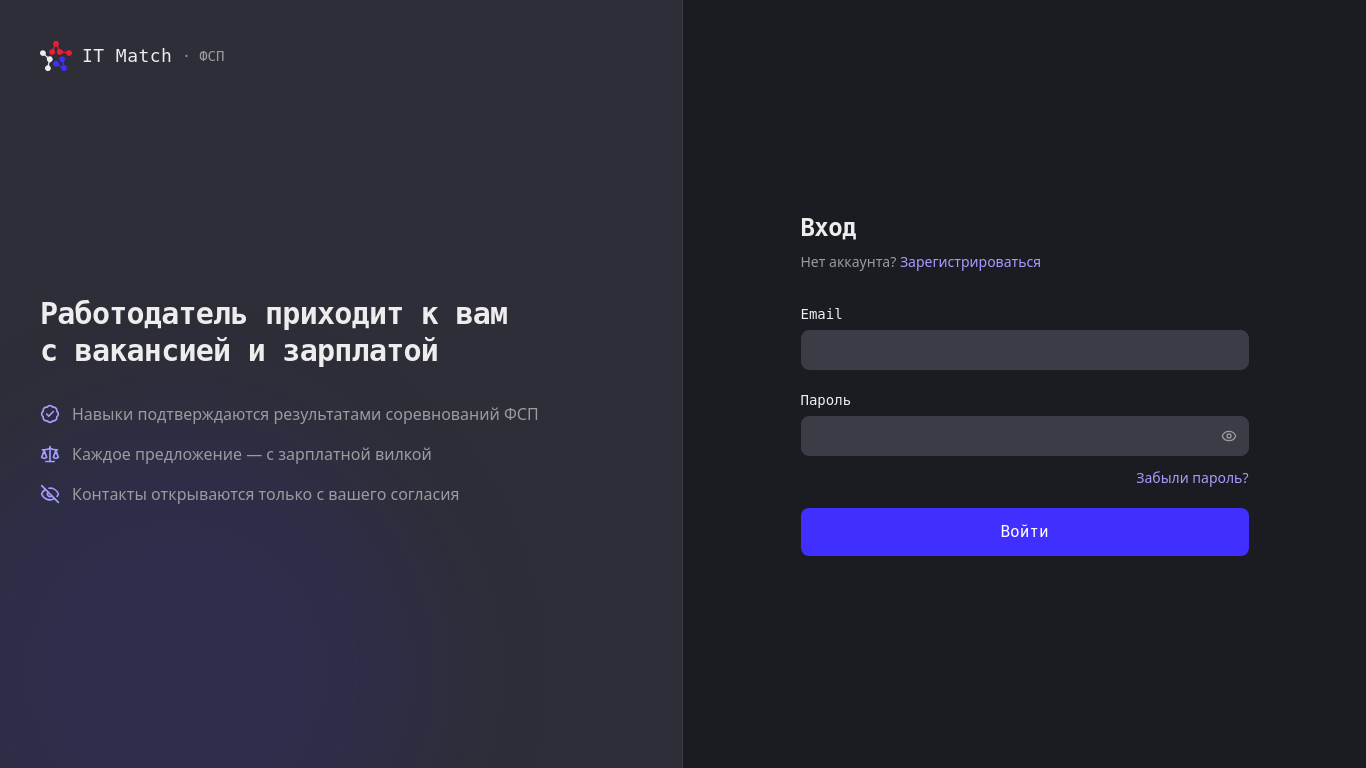
admin two-factor login › explains a wrong enrollment code and stays on the step
This screenshot has width=1366, height=768.
In the field labelled "Email": (1024, 350) 800,330 -> 1248,370, type "admin@example.org"
In the password field labelled "Пароль": (1024, 436) 800,416 -> 1248,456, type "Str0ng-pass-42"
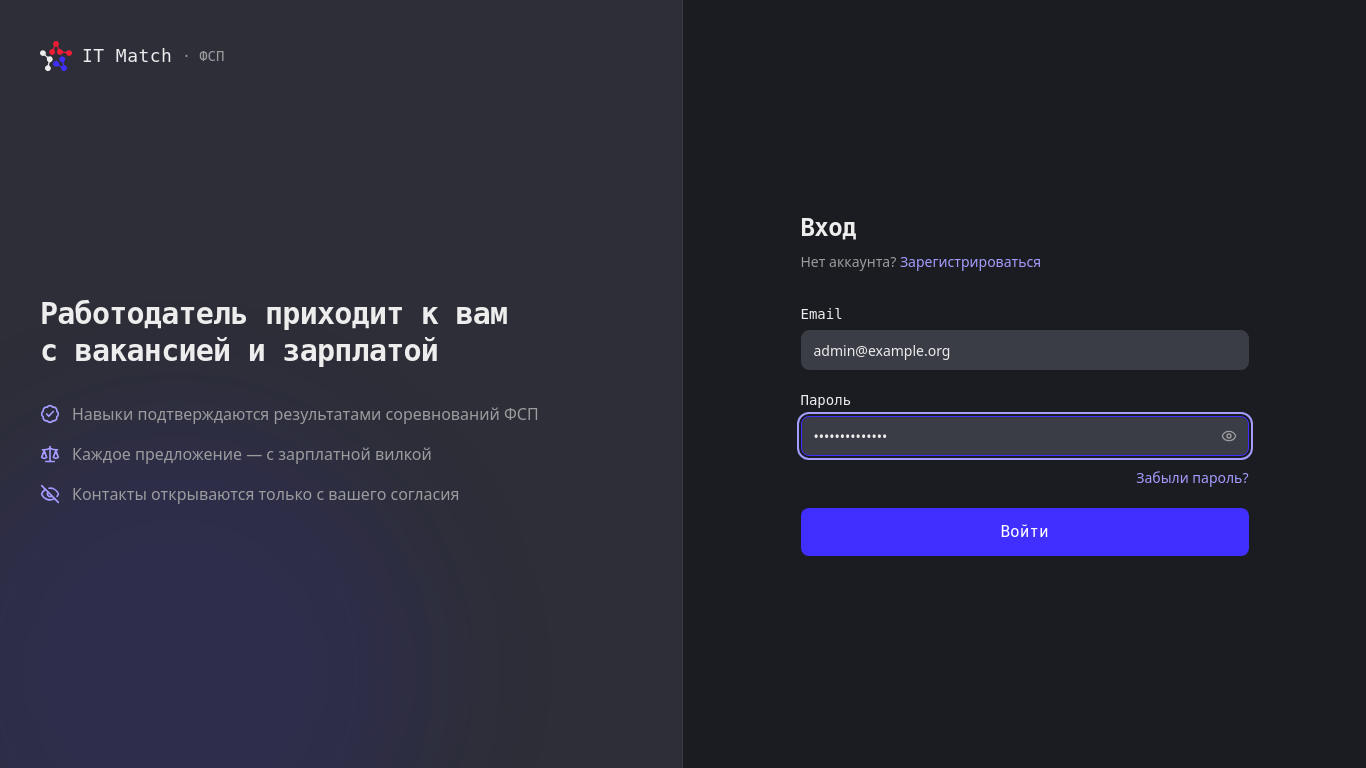
Click the button "Войти": click(1024, 532) 800,508 -> 1248,556
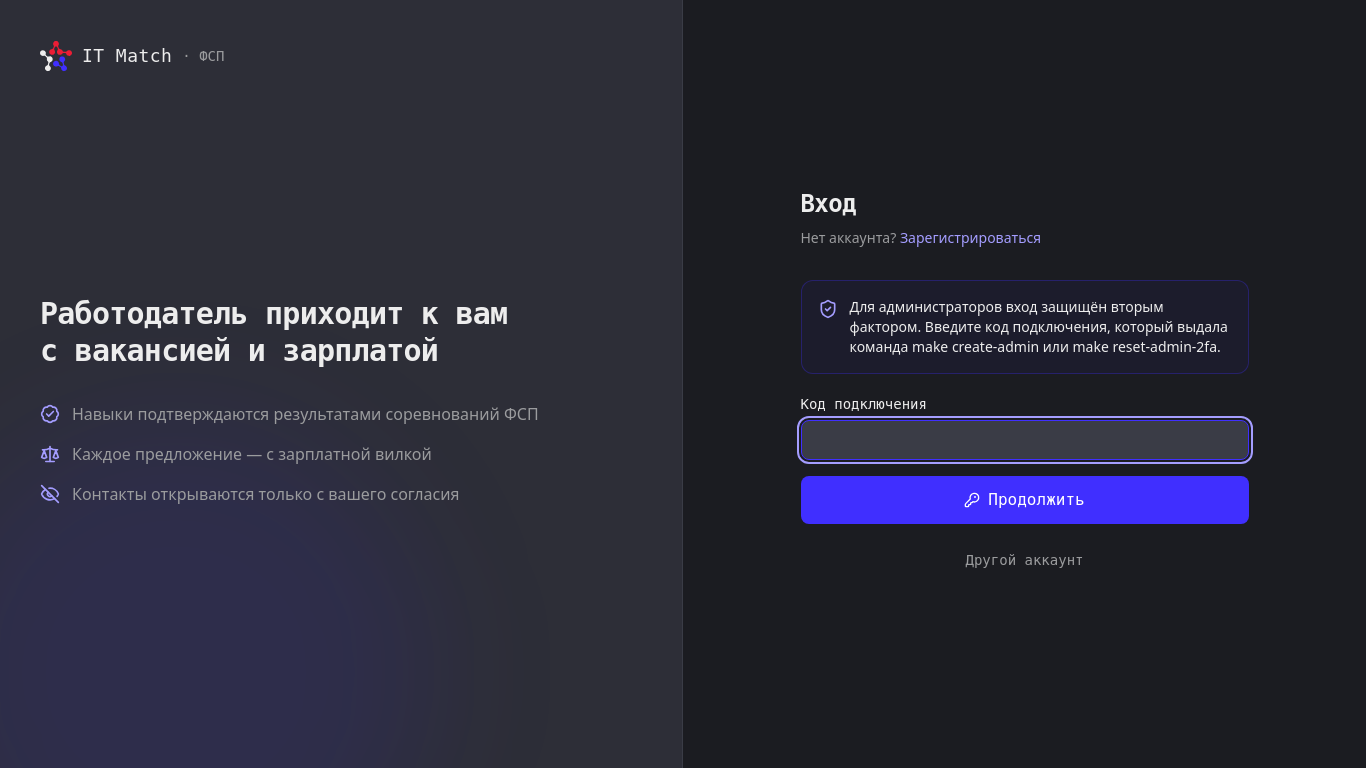
In the field labelled "Код подключения": (1024, 440) 800,420 -> 1248,460, type "short"
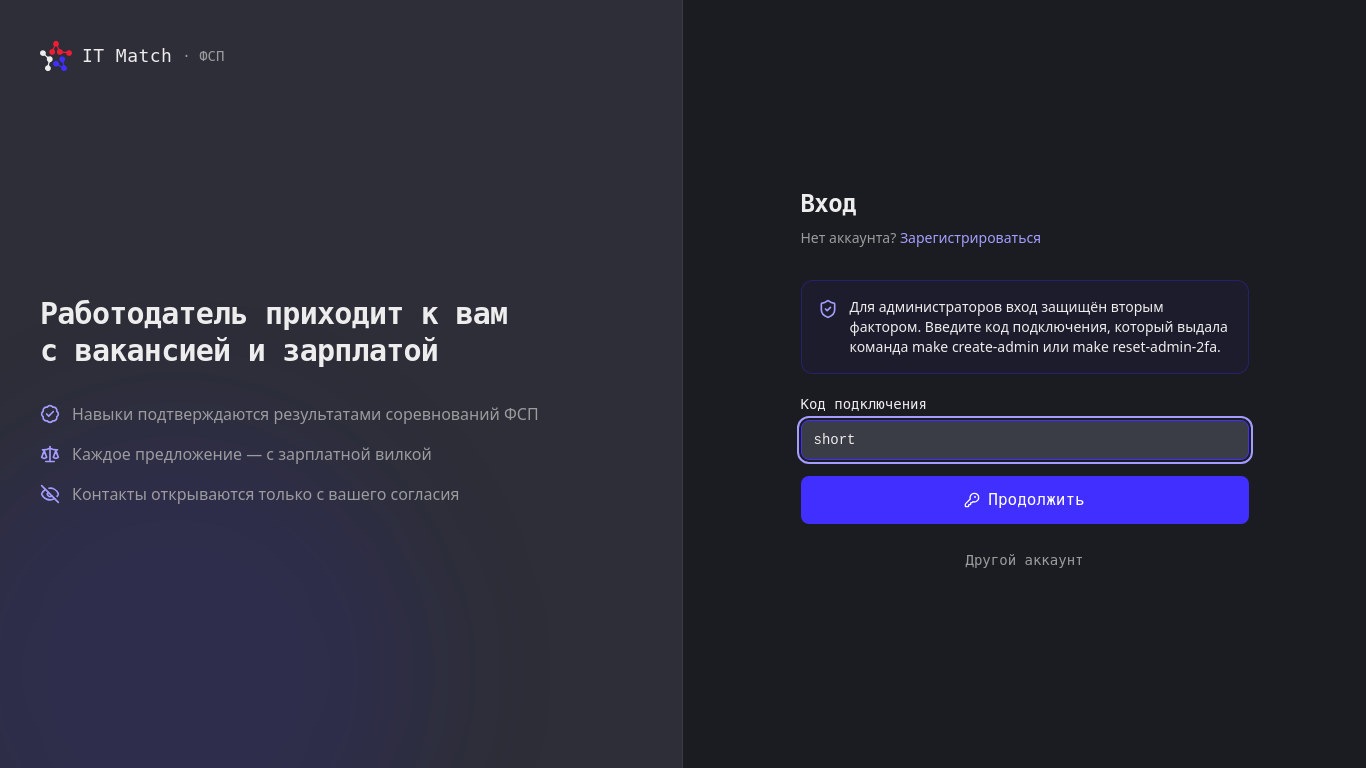
Click the button "Продолжить": click(1024, 500) 800,476 -> 1248,524
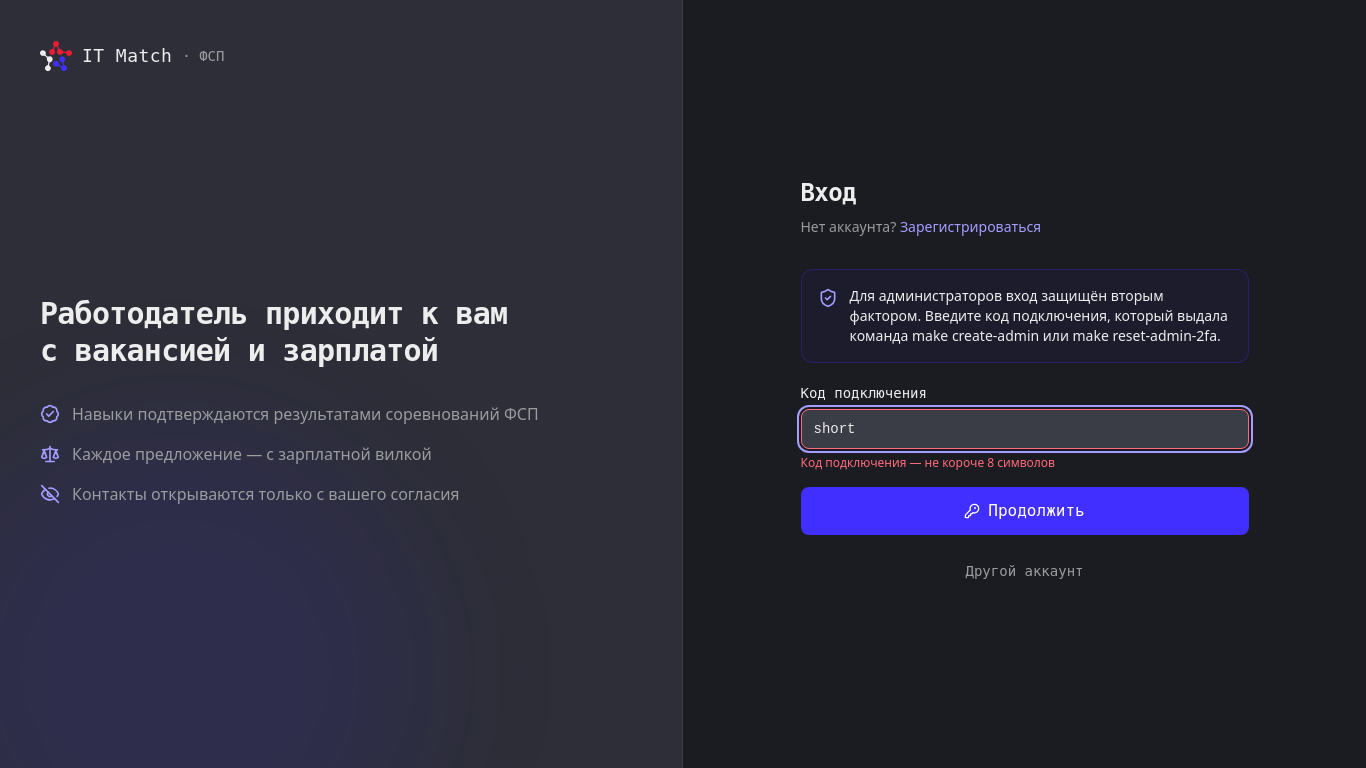
Result: the text "Код подключения — не короче 8 символов" is shown at 800,454 -> 1055,471
In the field labelled "Код подключения": (1024, 429) 800,409 -> 1248,449, type "-wrong-code"
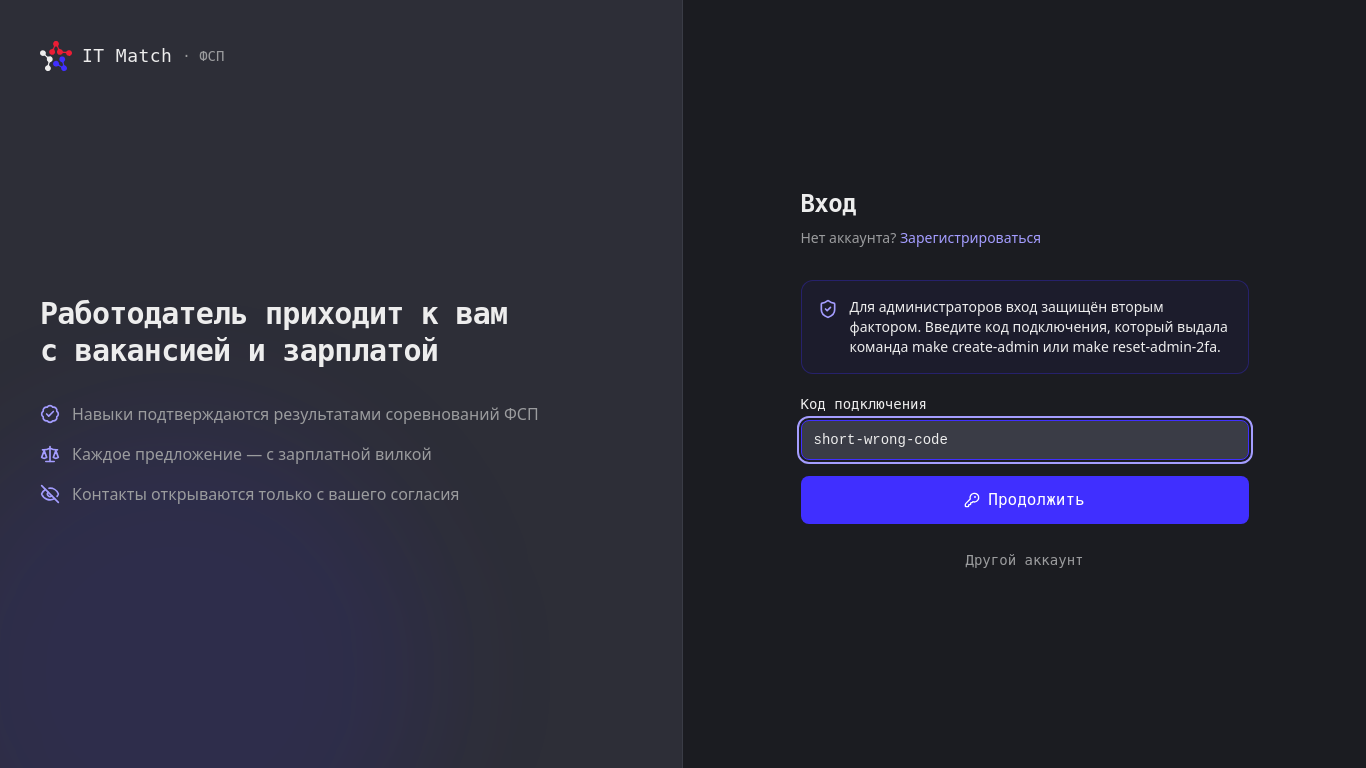
Click the button "Продолжить": click(1024, 500) 800,476 -> 1248,524
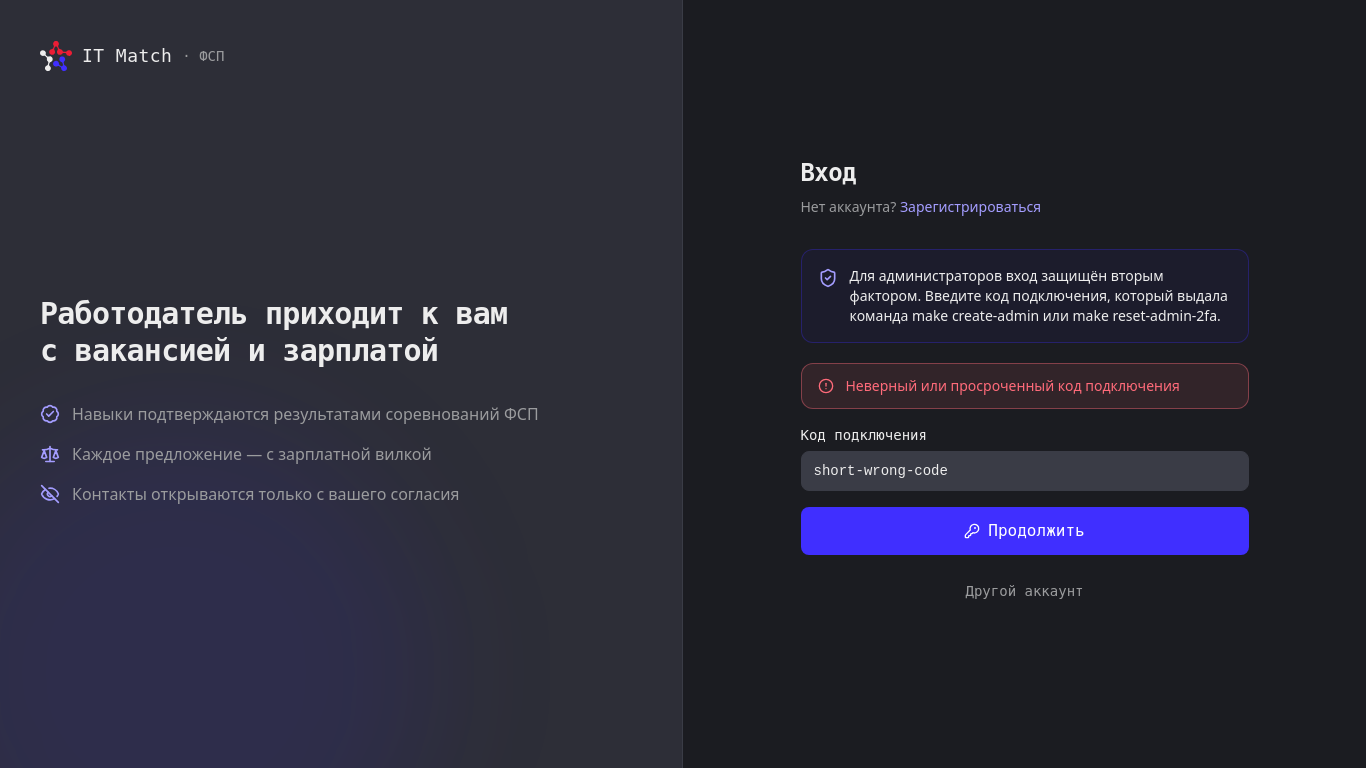
Result: the text "Неверный или просроченный код подключения" is shown at 846,376 -> 1180,396
